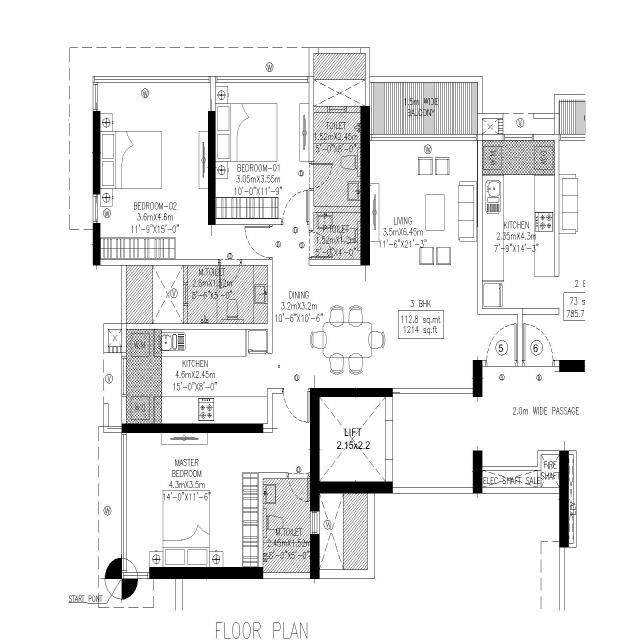Column: (358, 105, 372, 268), (148, 566, 265, 582), (120, 422, 264, 434), (308, 386, 320, 512), (206, 110, 218, 226), (558, 450, 570, 550), (316, 480, 394, 494), (310, 386, 394, 398), (91, 110, 102, 196), (308, 532, 322, 582), (472, 449, 484, 495), (92, 221, 102, 269), (472, 358, 484, 398), (557, 358, 587, 373)
Door: (485, 358, 519, 368), (522, 358, 556, 368), (280, 216, 311, 226), (217, 257, 243, 267), (282, 387, 310, 395), (308, 229, 315, 261), (268, 222, 273, 260), (286, 472, 312, 479)
Opening: (552, 272, 562, 310)
Ventilator: (120, 355, 128, 397), (502, 132, 534, 142), (310, 509, 320, 537), (308, 159, 316, 193), (268, 348, 274, 392), (326, 104, 349, 114), (182, 281, 190, 305)
Window: (93, 74, 211, 82), (214, 75, 310, 83), (92, 80, 98, 112), (92, 192, 98, 224)
